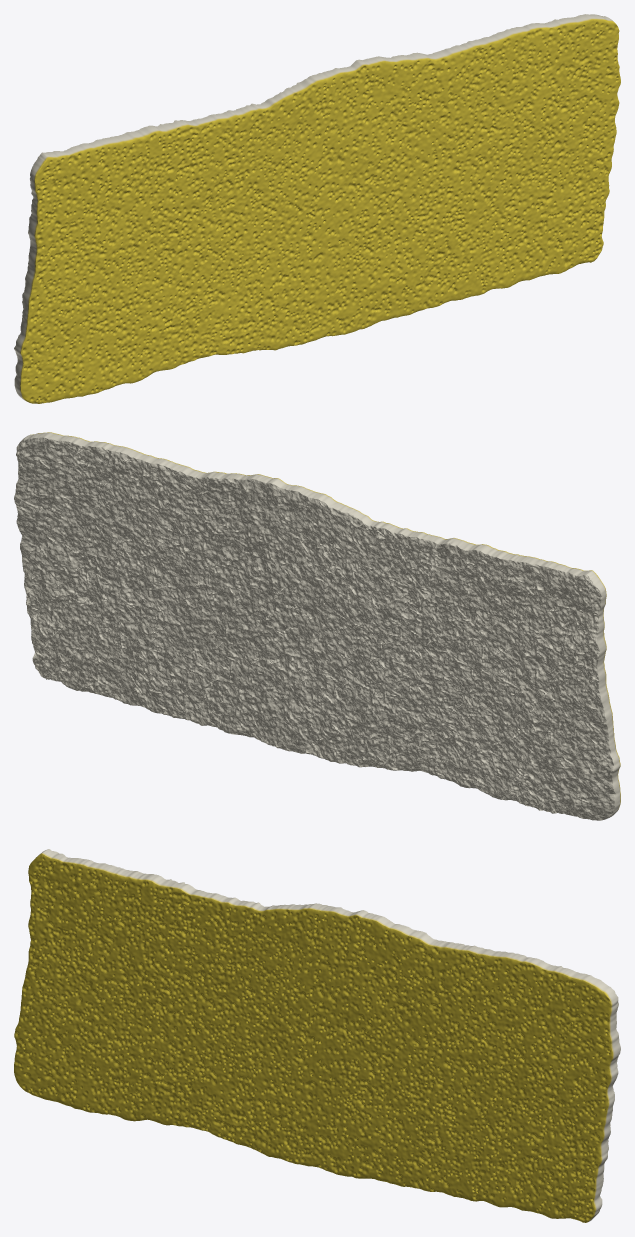
Rendered from lemon-peel-180x76mm-v1.glb.
3 renders of one model, top to bottom at view 1: azimuth 30°, elevation 25°; view 2: azimuth 150°, elevation 25°; view 3: azimuth 330°, elevation 25°, orthographic.
Parts seen in each view (by area): view 1: geometry_0; view 2: geometry_0; view 3: geometry_0.
Boxes of the visible parts, x1,y1,x2,y2 form: geometry_0: (14,14,620,403); geometry_0: (14,432,620,820); geometry_0: (14,849,620,1222).
Size of the model in its own units: 180 by 76 by 5.4.
